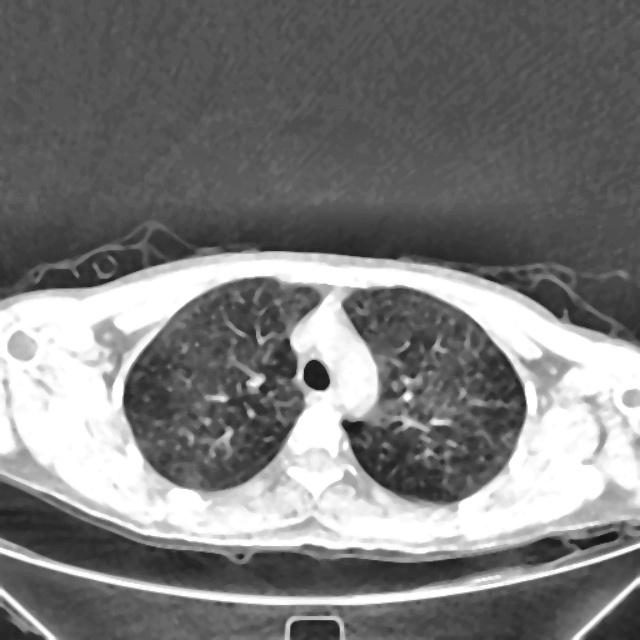covid: (0, 247, 639, 567)
